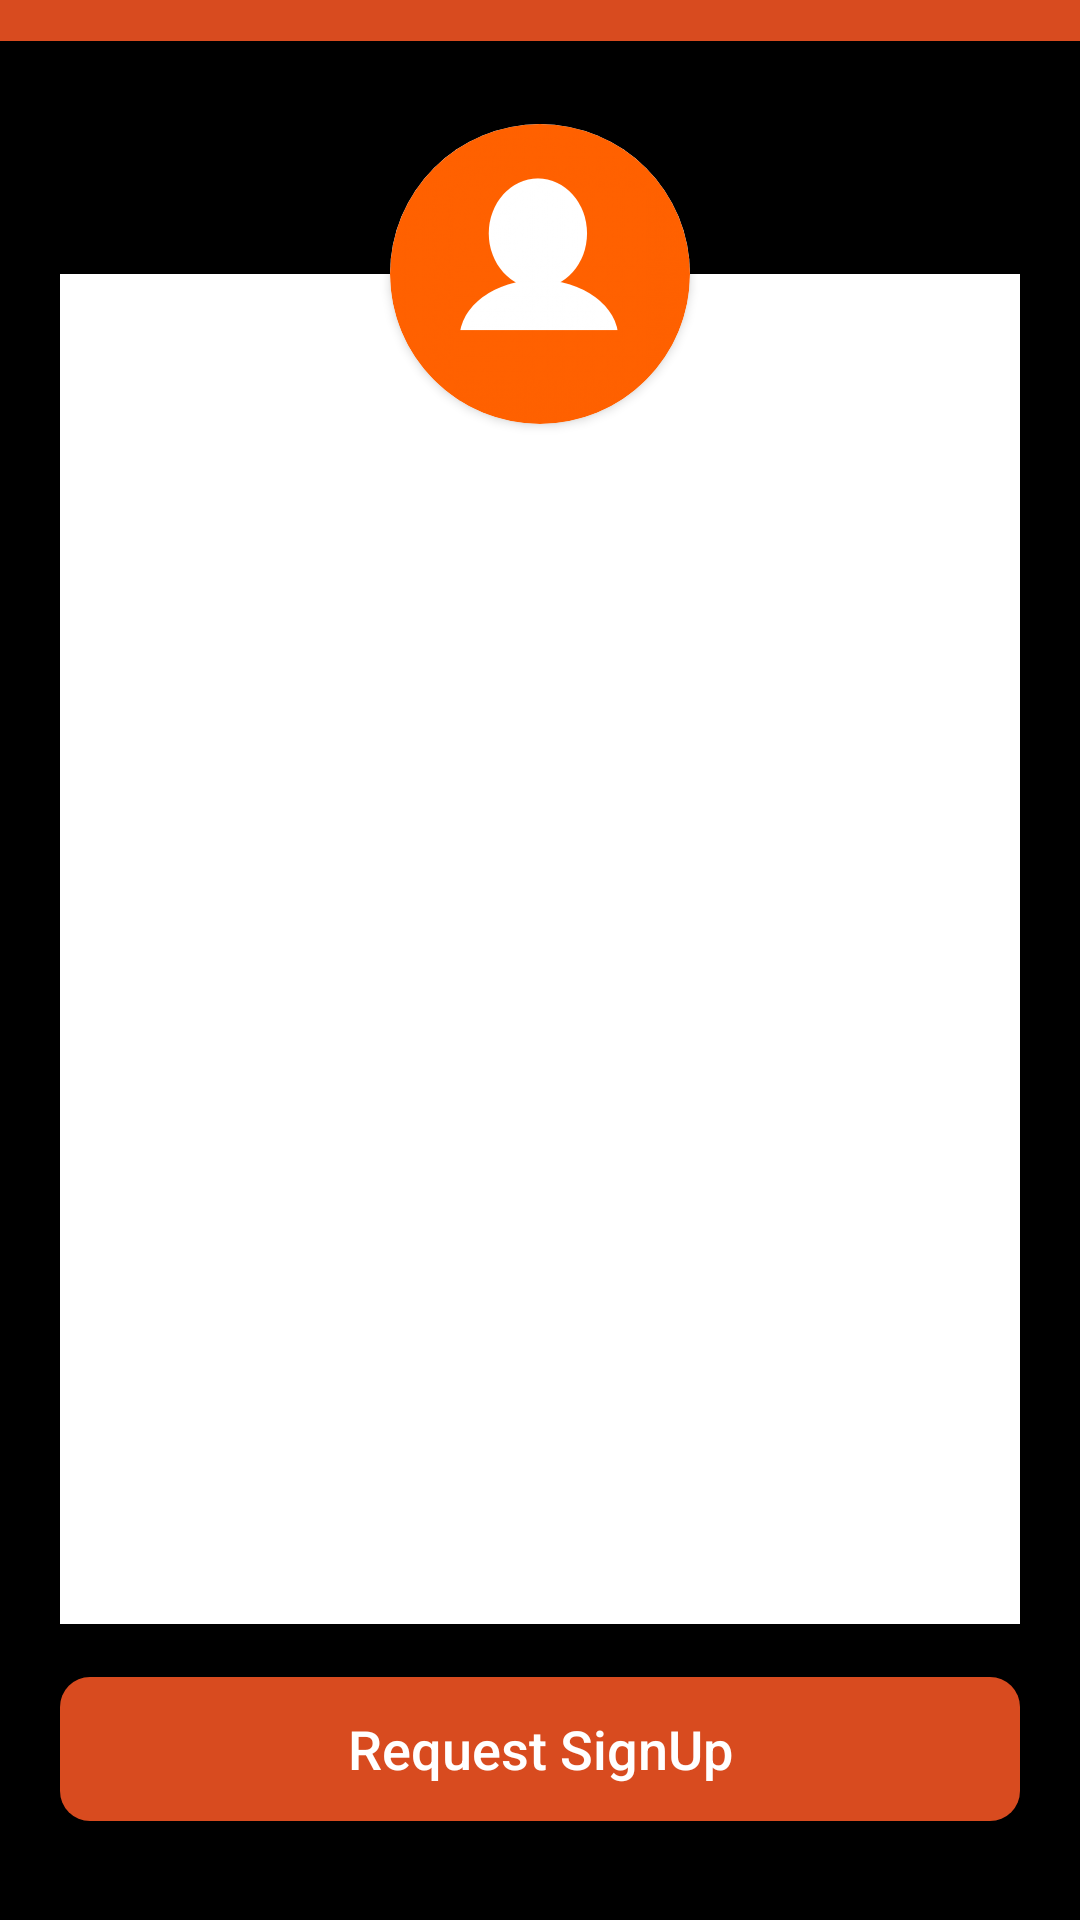

Where to tap for icons on this 1080 x 1920 app screen, as point (x, y):
profile: point (540, 274)
